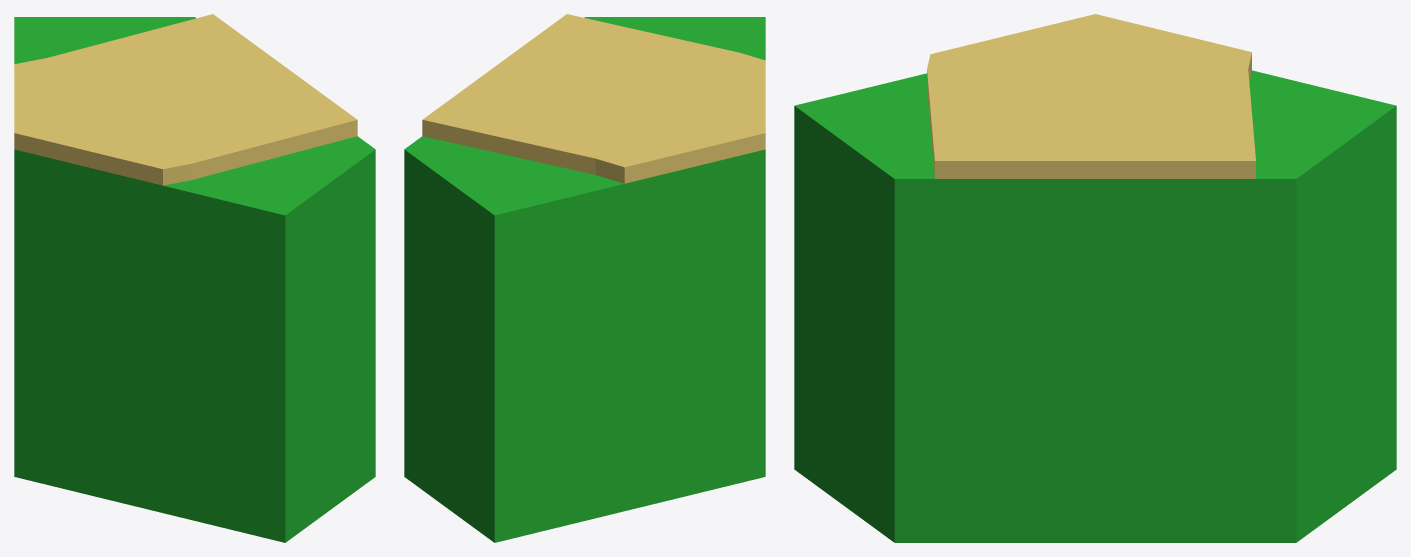
The model's file is module-corner_land_path_straight_003.glb.
The picture shows the model from 3 angles, left to right: view 1: azimuth 30°, elevation 25°; view 2: azimuth 150°, elevation 25°; view 3: azimuth 270°, elevation 25°; orthographic projection. The views are drawn at different scales.
Visible parts, largest first — view 1: module-corner_land_path_straight_003; view 2: module-corner_land_path_straight_003; view 3: module-corner_land_path_straight_003.
Boxes of the visible parts, x1,y1,x2,y2 form: module-corner_land_path_straight_003: [14, 14, 375, 542]; module-corner_land_path_straight_003: [404, 14, 765, 542]; module-corner_land_path_straight_003: [794, 14, 1396, 542].
Size of the model in its own units: 0.433 by 0.525 by 0.75.
